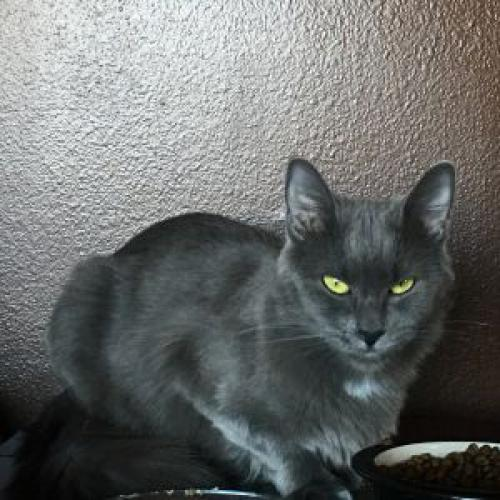rblue: (269, 150, 474, 381)
